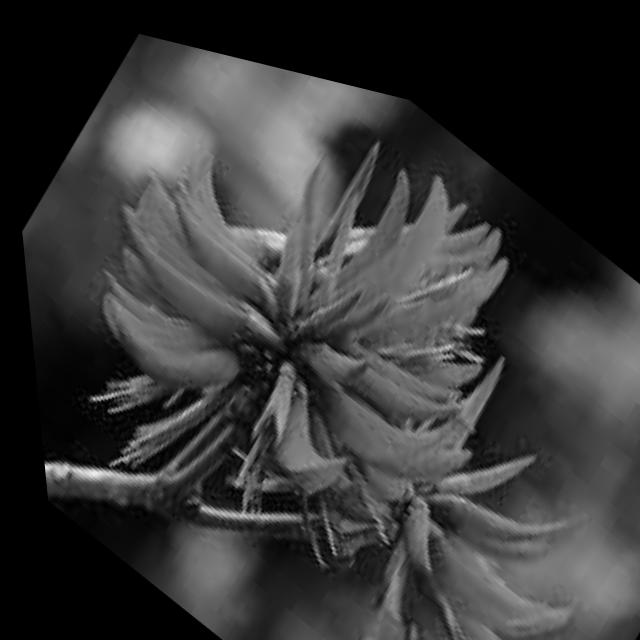Flower: (5, 1, 585, 635), (211, 251, 640, 640)
